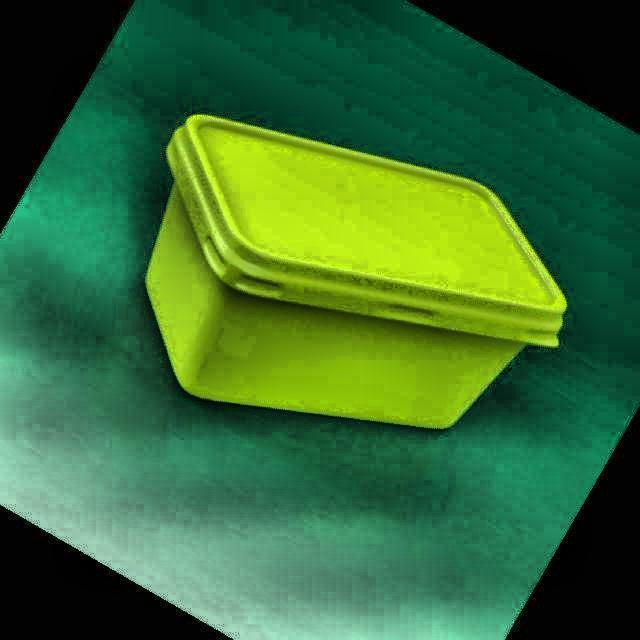plastic: (146, 116, 566, 428)
